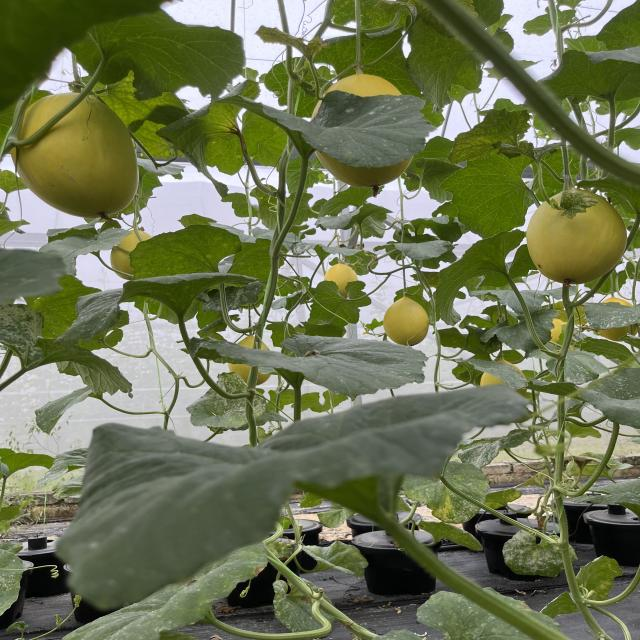CMV: (447, 108, 535, 166), (453, 428, 536, 470), (255, 25, 329, 62), (548, 190, 600, 220), (493, 140, 566, 160)
downy mildew: (157, 78, 296, 178), (128, 223, 290, 295), (395, 460, 492, 526), (538, 554, 627, 621)
healthy: (48, 381, 538, 613), (63, 9, 248, 101), (200, 331, 430, 400), (438, 144, 586, 240), (433, 229, 526, 327), (534, 43, 640, 103), (37, 226, 130, 278), (478, 307, 560, 354), (467, 284, 579, 316), (309, 280, 373, 328), (315, 202, 395, 234)
powdery mildew: (221, 88, 435, 172), (52, 273, 260, 349), (0, 302, 142, 398), (529, 366, 640, 431), (184, 371, 291, 430), (500, 528, 580, 578), (270, 575, 335, 634), (441, 356, 528, 391), (580, 299, 640, 329)
